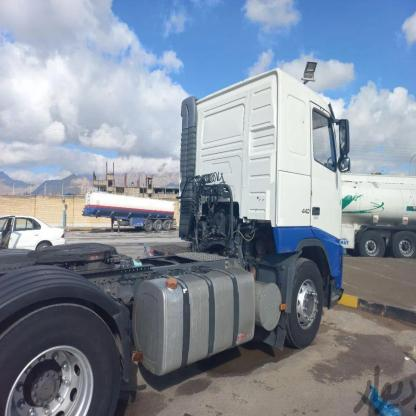Car: (0, 217, 67, 256)
Truck: (0, 68, 349, 411), (340, 174, 416, 259), (86, 194, 174, 234)
